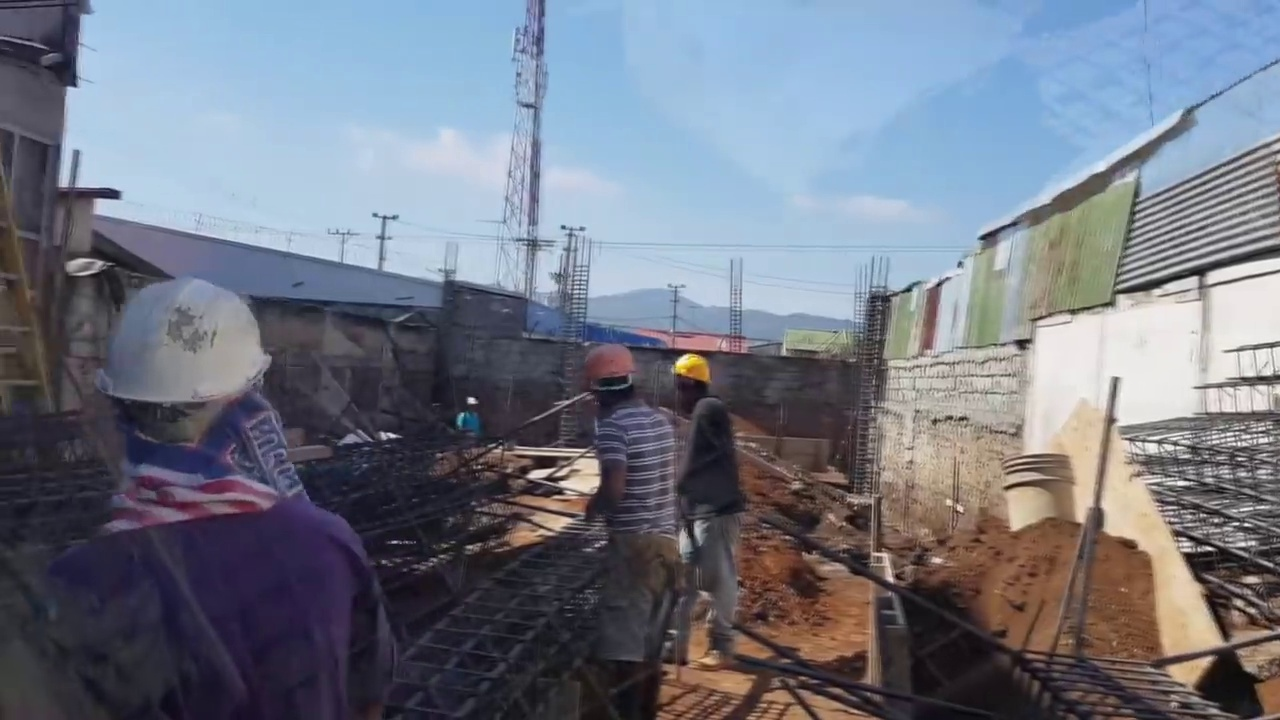helmet: (95, 279, 273, 399), (585, 349, 638, 393), (671, 354, 713, 385), (465, 396, 479, 405)
helmet-on: (92, 278, 274, 453), (585, 344, 650, 422), (671, 352, 717, 406), (465, 396, 479, 413)
person: (71, 274, 390, 719), (585, 346, 673, 720), (671, 351, 747, 672), (455, 396, 480, 441)
